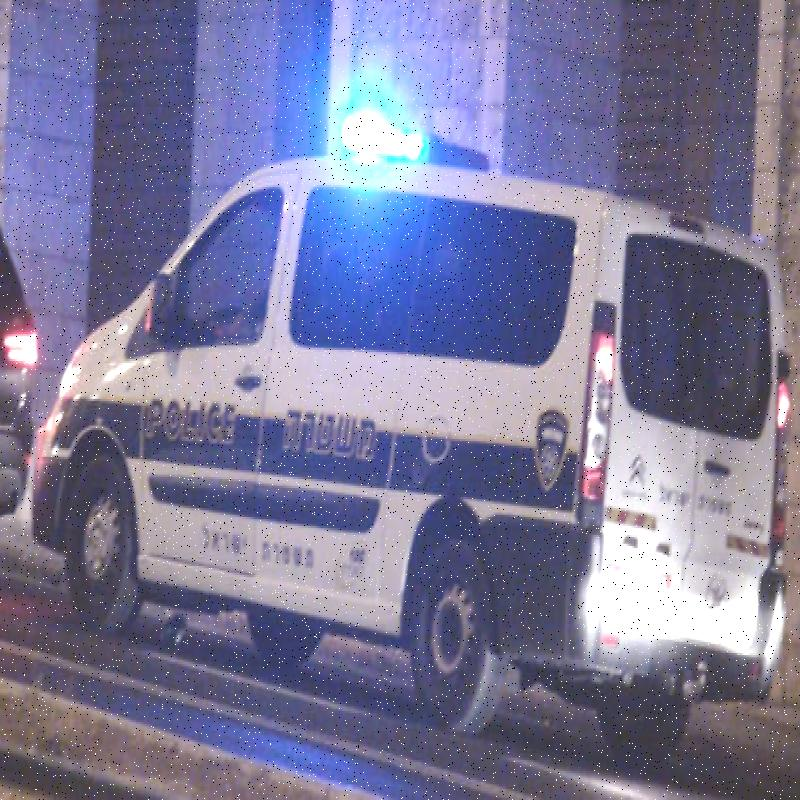AmbulanceSiren: (328, 90, 489, 181)
